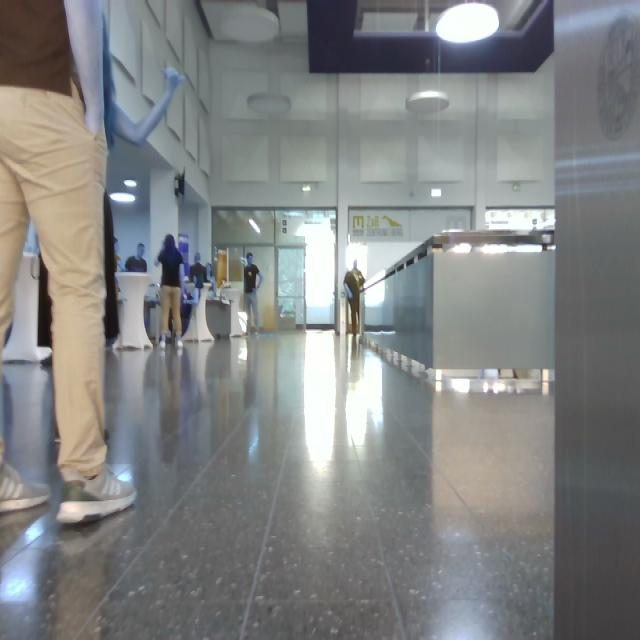door: (212, 209, 335, 330)
light bulb: (437, 2, 500, 44), (407, 90, 449, 114), (110, 192, 135, 204), (124, 181, 136, 190), (431, 189, 441, 198)
person: (1, 1, 181, 522), (158, 236, 183, 341), (344, 261, 365, 336), (244, 254, 263, 334), (189, 253, 207, 302)
staircase: (362, 232, 554, 385)
table: (116, 273, 155, 350), (185, 286, 214, 341), (116, 240, 147, 272)
tiled floor: (1, 332, 553, 640)
